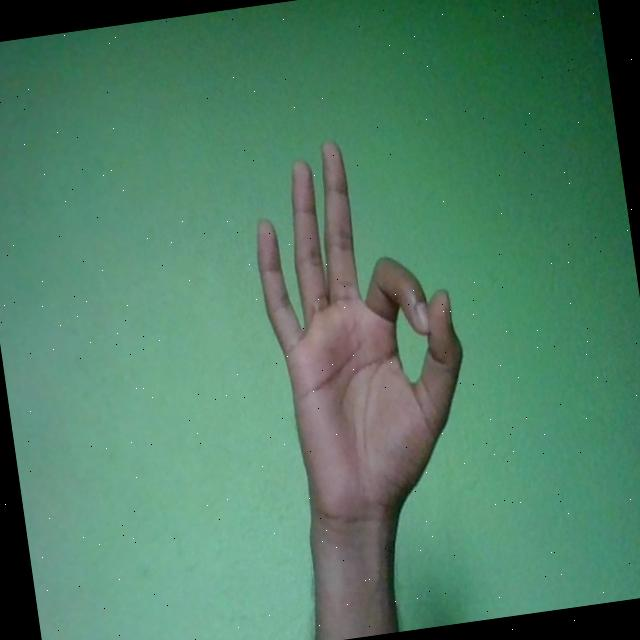Rock On: (242, 128, 486, 540)
